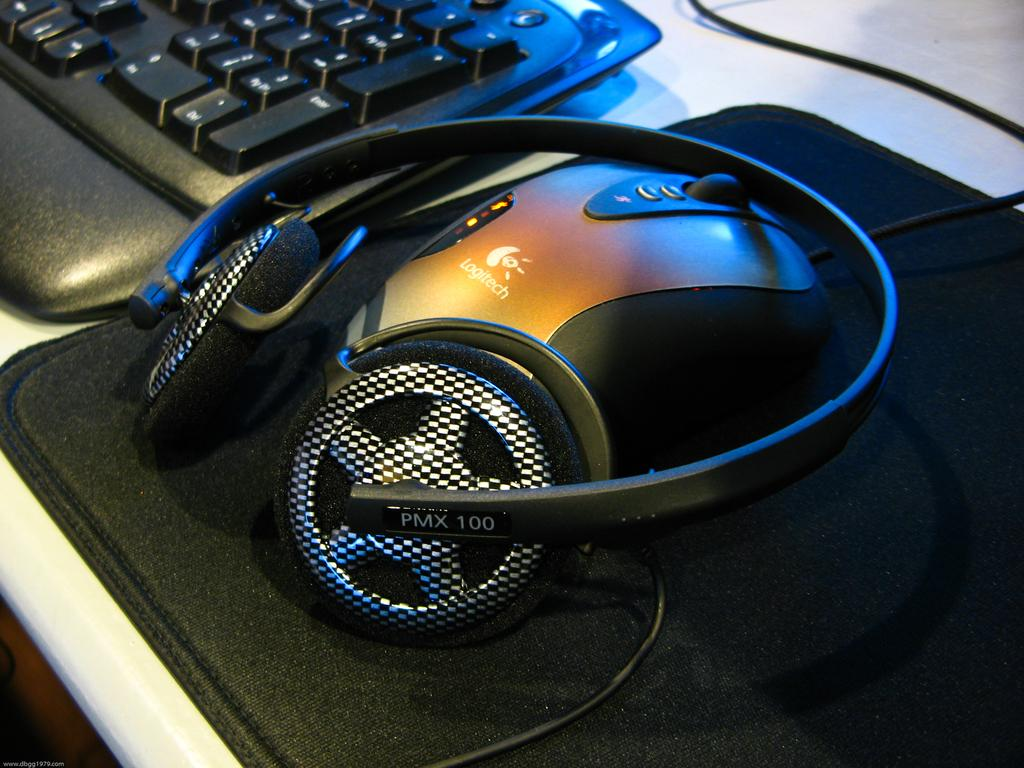Computer-mouse: (324, 157, 846, 452)
